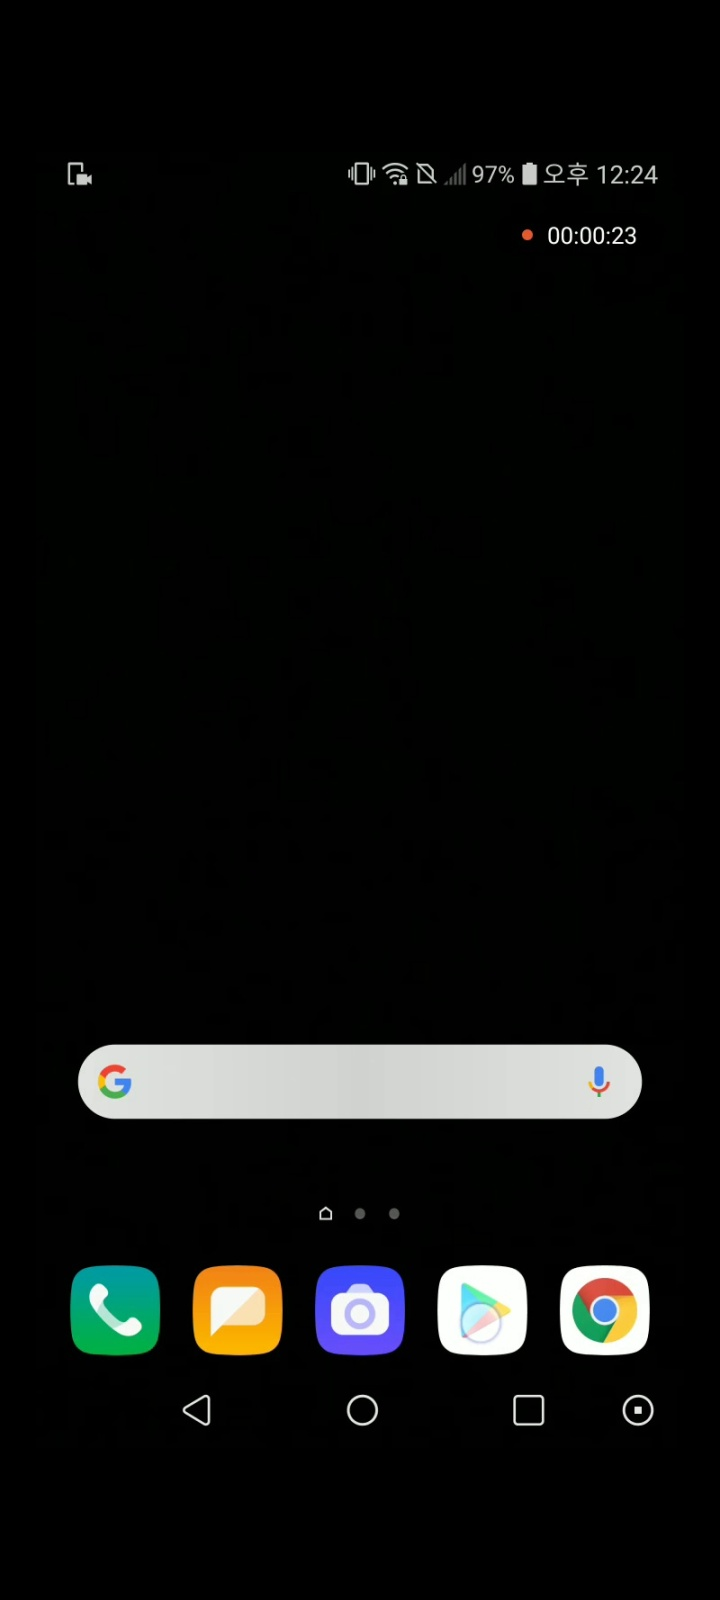Cursor: (459, 1303, 504, 1348)
